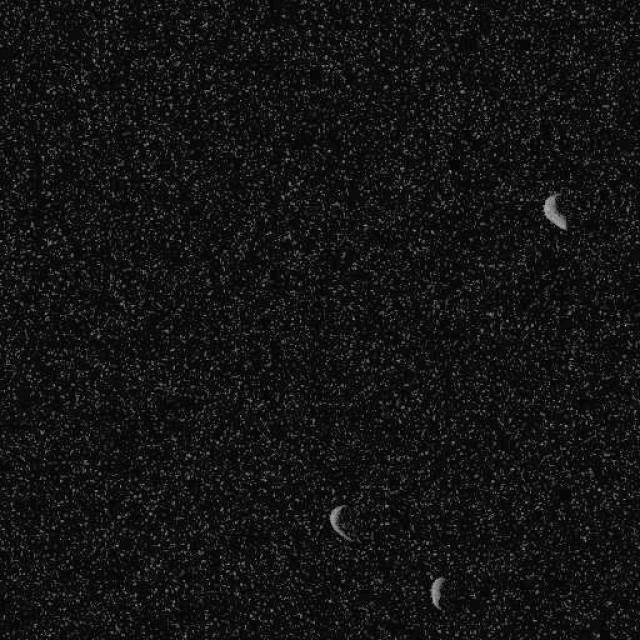D2: (328, 502, 358, 542), (542, 191, 568, 231), (429, 575, 446, 610)
